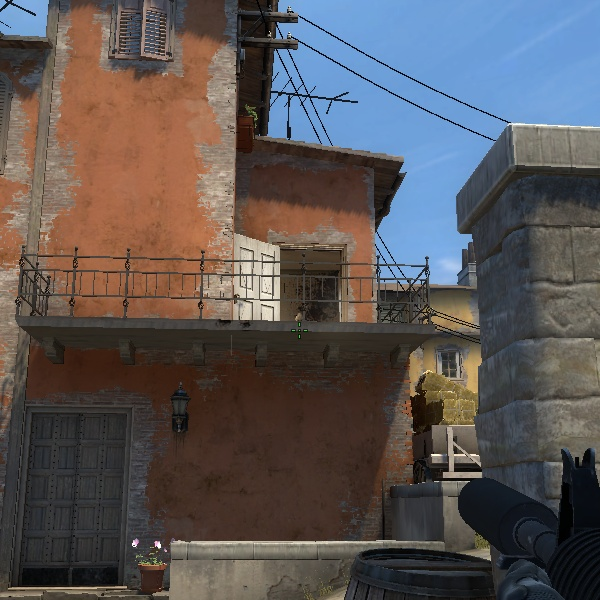ct_body: (133, 540, 175, 599)
